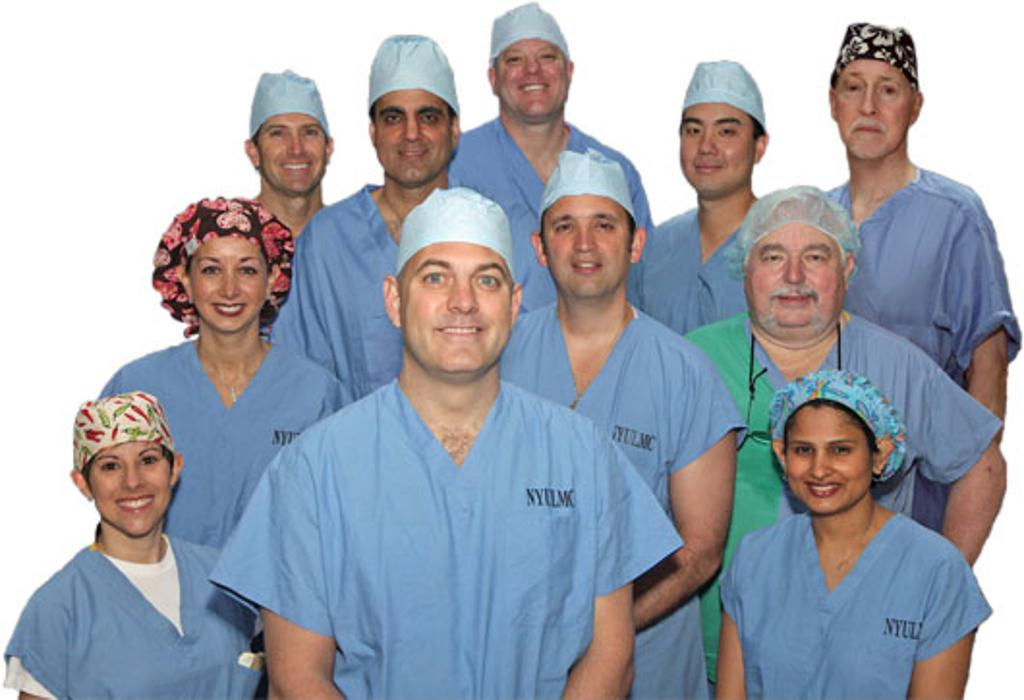face: (406, 240, 512, 374), (746, 218, 842, 326), (84, 424, 168, 536), (540, 192, 628, 294), (782, 412, 862, 512), (378, 82, 454, 186), (836, 54, 906, 162), (194, 232, 264, 328), (682, 94, 752, 188), (262, 102, 328, 196), (498, 30, 568, 118)
